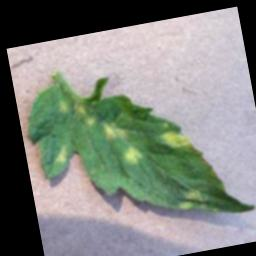Leaf_Mold: (158, 127, 194, 155), (176, 185, 206, 212), (101, 117, 129, 144), (122, 143, 146, 167), (75, 101, 96, 128), (54, 146, 69, 166), (57, 99, 69, 113)
